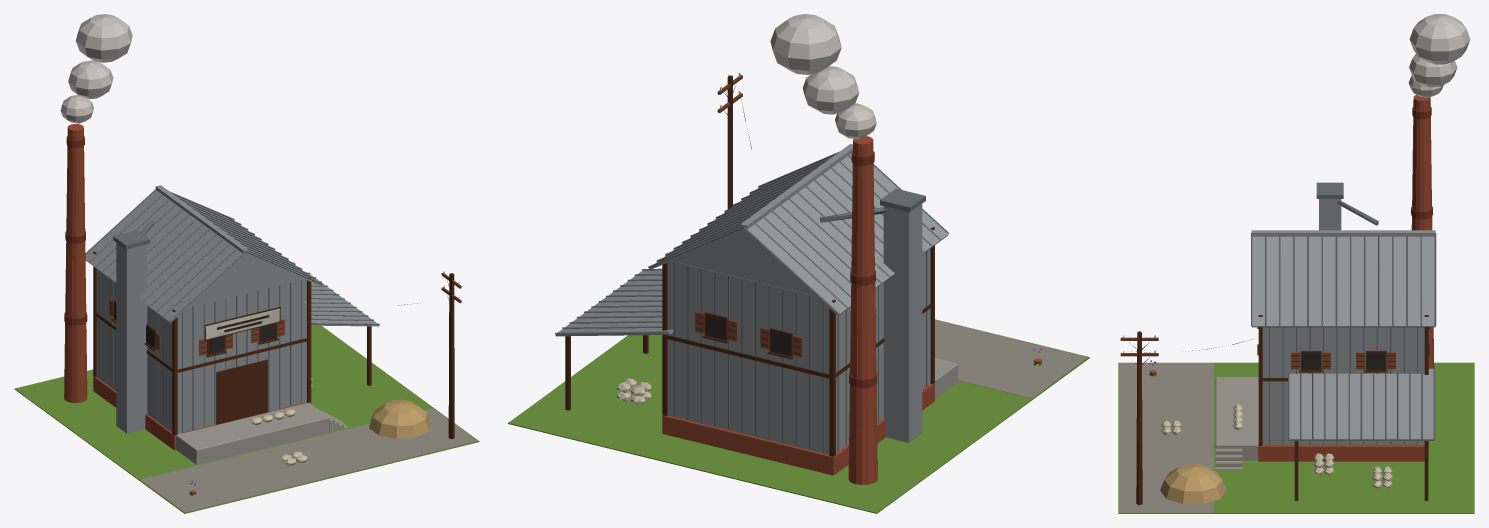
File: factory_3.glb
3 views of the same model, side by side, from view 1: azimuth 30°, elevation 25°; view 2: azimuth 150°, elevation 25°; view 3: azimuth 270°, elevation 25° (orthographic). The views are drawn at different scales.
Visible parts, largest first — view 1: body, windows; view 2: body, windows; view 3: body, windows.
Part boxes in pixels (box(x1,y1,x2,y2)): body: box(14, 14, 479, 513); windows: box(114, 303, 275, 353); body: box(508, 14, 1089, 513); windows: box(706, 315, 789, 354); body: box(1118, 14, 1474, 513); windows: box(1302, 353, 1384, 369).
Size of the model in its own units: 15.9 by 19.06 by 15.9.
